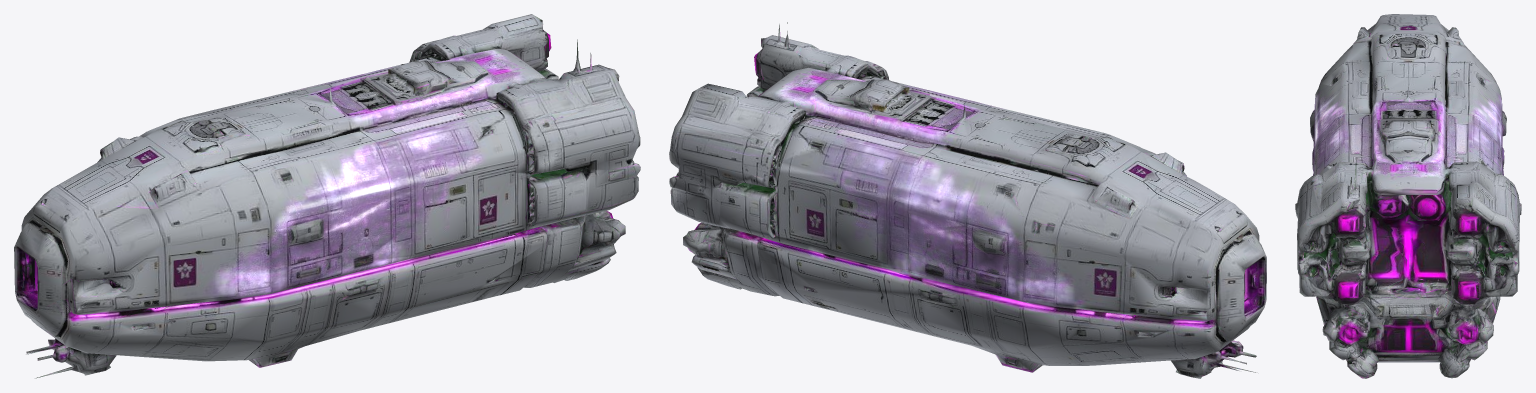
File: warp_small_cargo.glb
3 renders of one model, left to right at view 1: azimuth 30°, elevation 25°; view 2: azimuth 150°, elevation 25°; view 3: azimuth 270°, elevation 25°, orthographic. The views are drawn at different scales.
Parts seen in each view (by area): view 1: Mesh_0; view 2: Mesh_0; view 3: Mesh_0.
Boxes of the visible parts, box(x1,y1,x2,y2) form: Mesh_0: box(14, 14, 640, 378); Mesh_0: box(669, 22, 1266, 378); Mesh_0: box(1295, 14, 1521, 378).
Size of the model in its own units: 1.91 by 0.8734 by 0.7782.
Materials: 1 (1 with a texture image).
